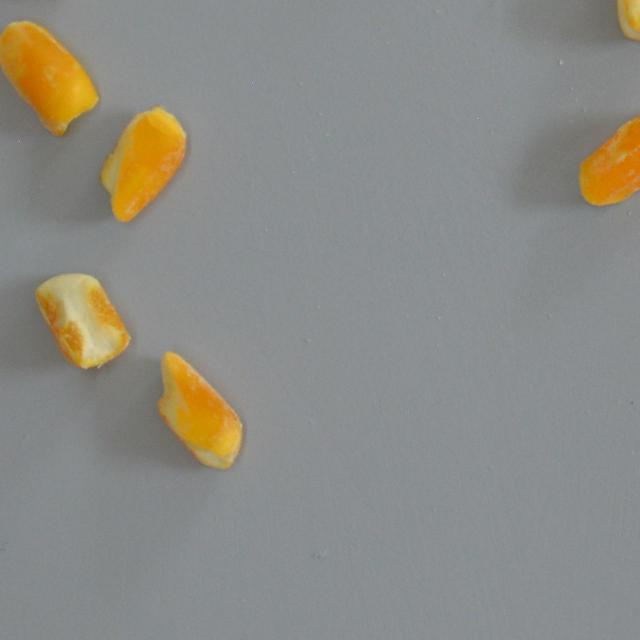agrietado: (96, 103, 188, 228)
pelicula: (0, 18, 103, 139), (152, 348, 245, 472), (30, 268, 134, 372), (574, 103, 640, 210), (610, 0, 640, 43)
